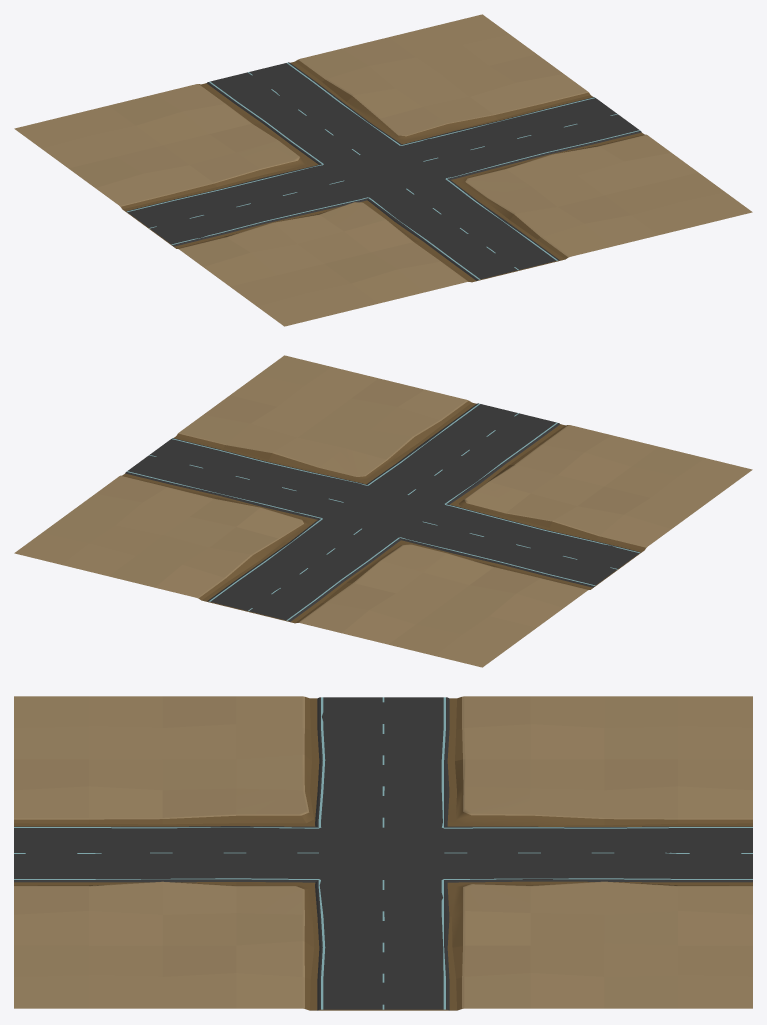
The model's file is model_road_dirt_crossroad_01.fbx.
The picture shows the model from 3 angles, top to bottom: view 1: azimuth 30°, elevation 25°; view 2: azimuth 150°, elevation 25°; view 3: azimuth 270°, elevation 25°; orthographic projection. The views are drawn at different scales.
Visible parts, largest first — view 1: model_road_dirt_crossroad_01; view 2: model_road_dirt_crossroad_01; view 3: model_road_dirt_crossroad_01.
Part boxes in pixels (box(x1,y1,x2,y2)): model_road_dirt_crossroad_01: box(14, 14, 752, 326); model_road_dirt_crossroad_01: box(14, 355, 752, 667); model_road_dirt_crossroad_01: box(14, 696, 752, 1010).
Bounding box in the file's own units: 6161 × 62.08 × 6161.
1 material, 1 textured.
